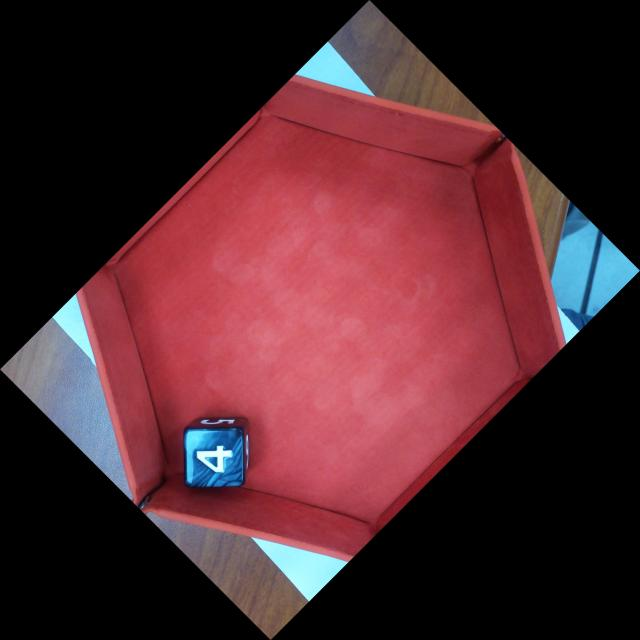dice: (187, 433, 244, 487)
